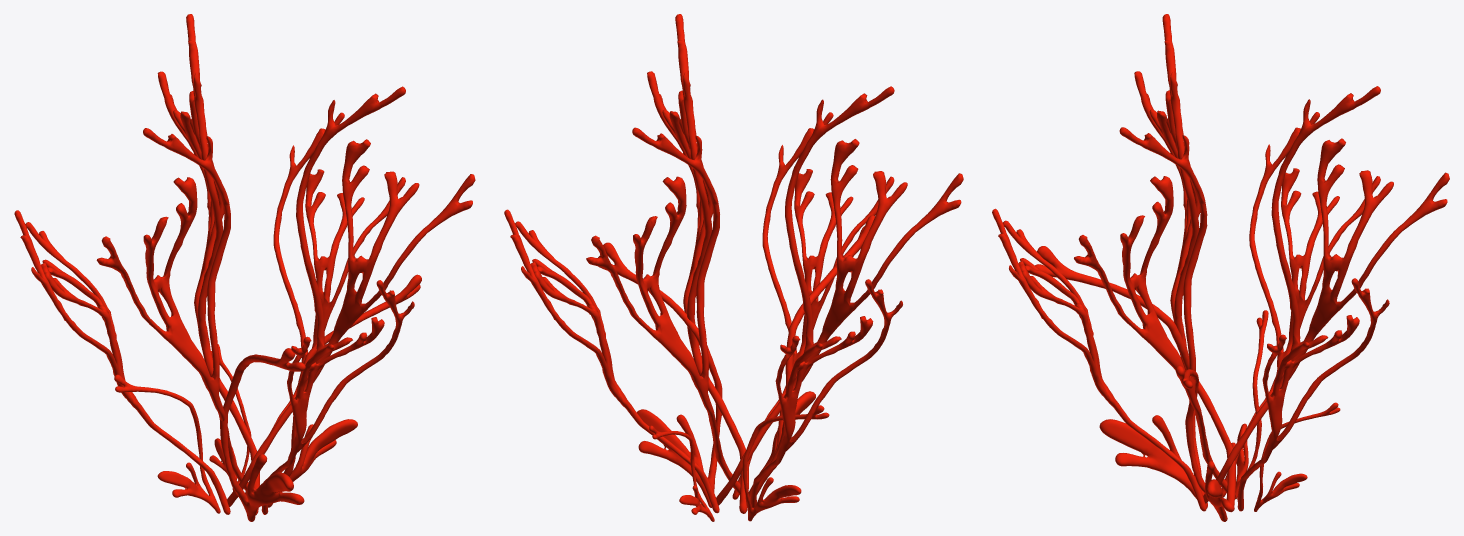
The model's file is Ahnfeltia_Red.glb.
3 views of the same model, side by side, from view 1: azimuth 30°, elevation 25°; view 2: azimuth 150°, elevation 25°; view 3: azimuth 270°, elevation 25° (orthographic).
Visible parts, largest first — view 1: anfelciya; view 2: anfelciya; view 3: anfelciya.
Boxes of the visible parts, left/top/right/bottom form: anfelciya: left=14, top=14, right=475, bottom=521; anfelciya: left=504, top=14, right=963, bottom=521; anfelciya: left=992, top=14, right=1449, bottom=521.
Size of the model in its own units: 2.62 by 2.88 by 2.75.
